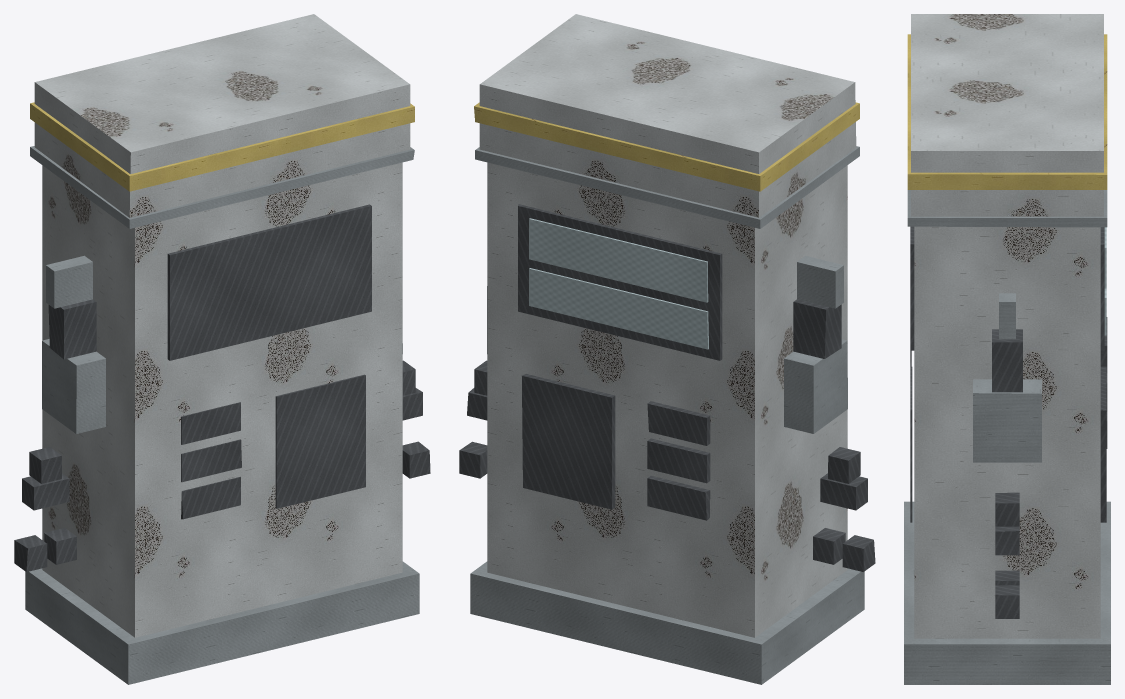
File: pump_v4.glb
3 views of the same model, side by side, from view 1: azimuth 30°, elevation 25°; view 2: azimuth 150°, elevation 25°; view 3: azimuth 270°, elevation 25° (orthographic).
Parts seen in each view (by area): view 1: Variant_pump_4; view 2: Variant_pump_4; view 3: Variant_pump_4.
Boxes of the visible parts, x1,y1,x2,y2 form: Variant_pump_4: [14, 14, 430, 684]; Variant_pump_4: [459, 14, 875, 684]; Variant_pump_4: [904, 14, 1110, 684].
Size of the model in its own units: 1.36 by 1.7 by 0.6.
5 materials, 5 textured.
